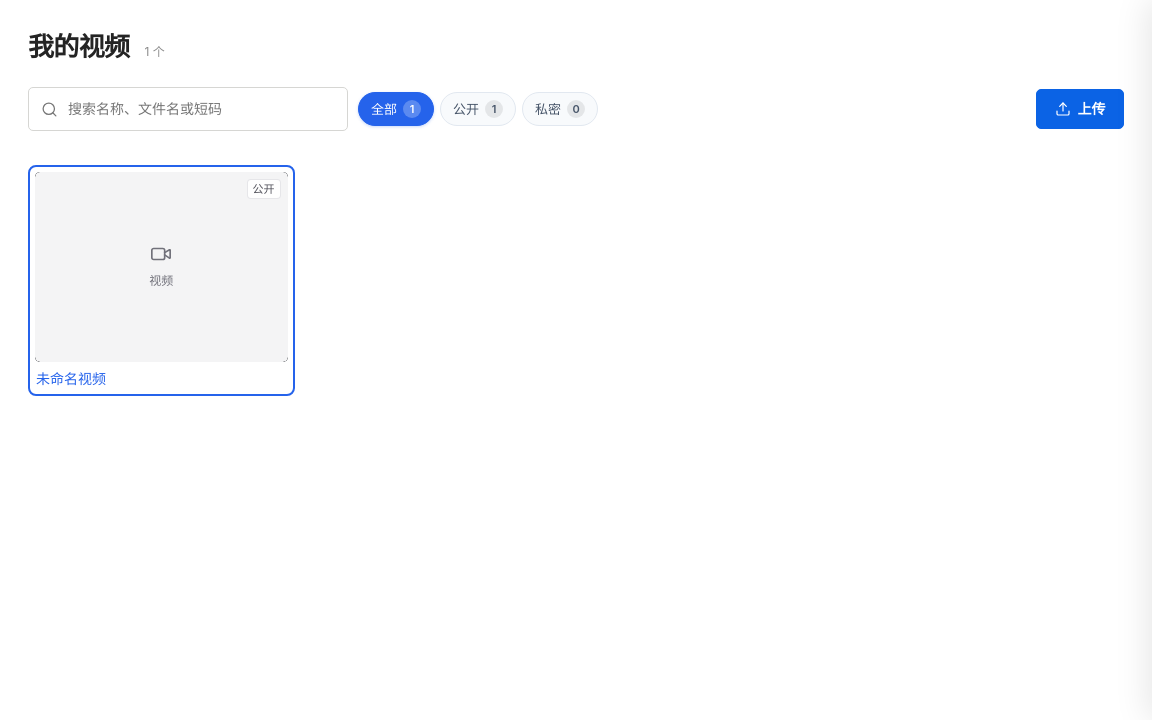
Test case: VideoView media group scope › uses the canonical media-library skeleton and opens uploads on demand
Expected: the heading "我的视频" is shown, [28,31,129,62]
Expected: the text "1 个" is shown, [144,43,165,62]
Click the button with class "library-upload-button" at (1080, 109), box [1036,89,1124,129]
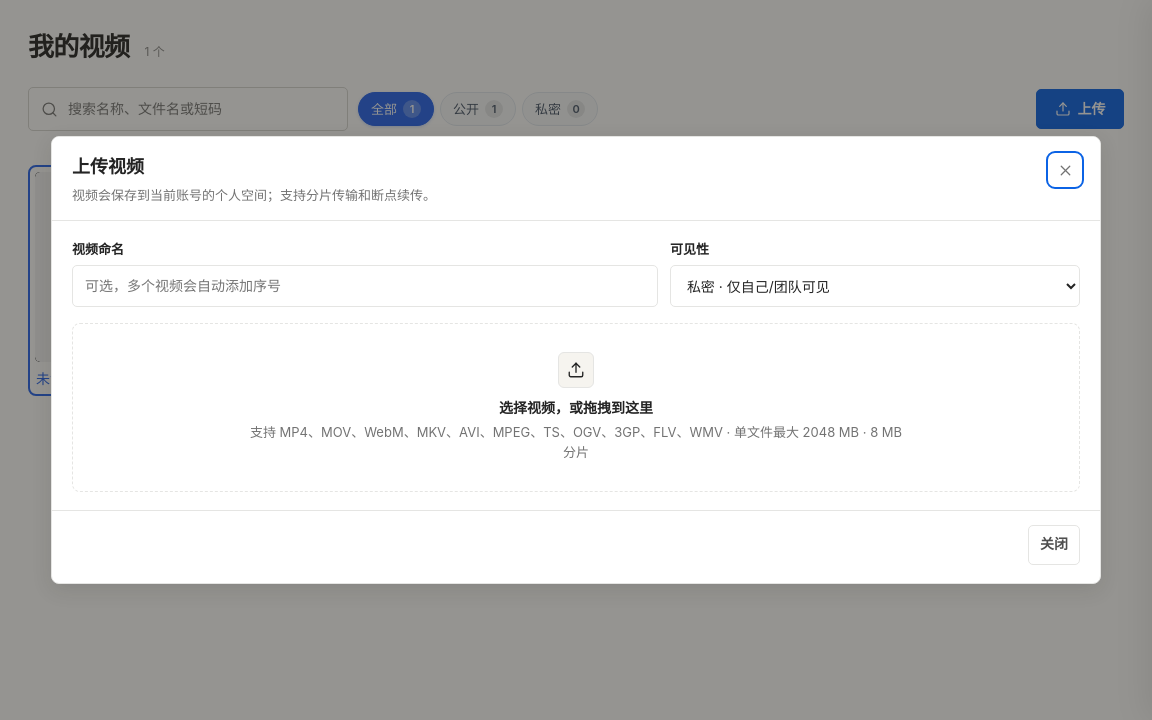
Expected: the button with aria-label "选择或拖拽视频上传" is shown, [72,323,1080,492]
Expected: the dropdown labelled "可见性" shows "私密 · 仅自己/团队可见", [670,265,1080,307]
